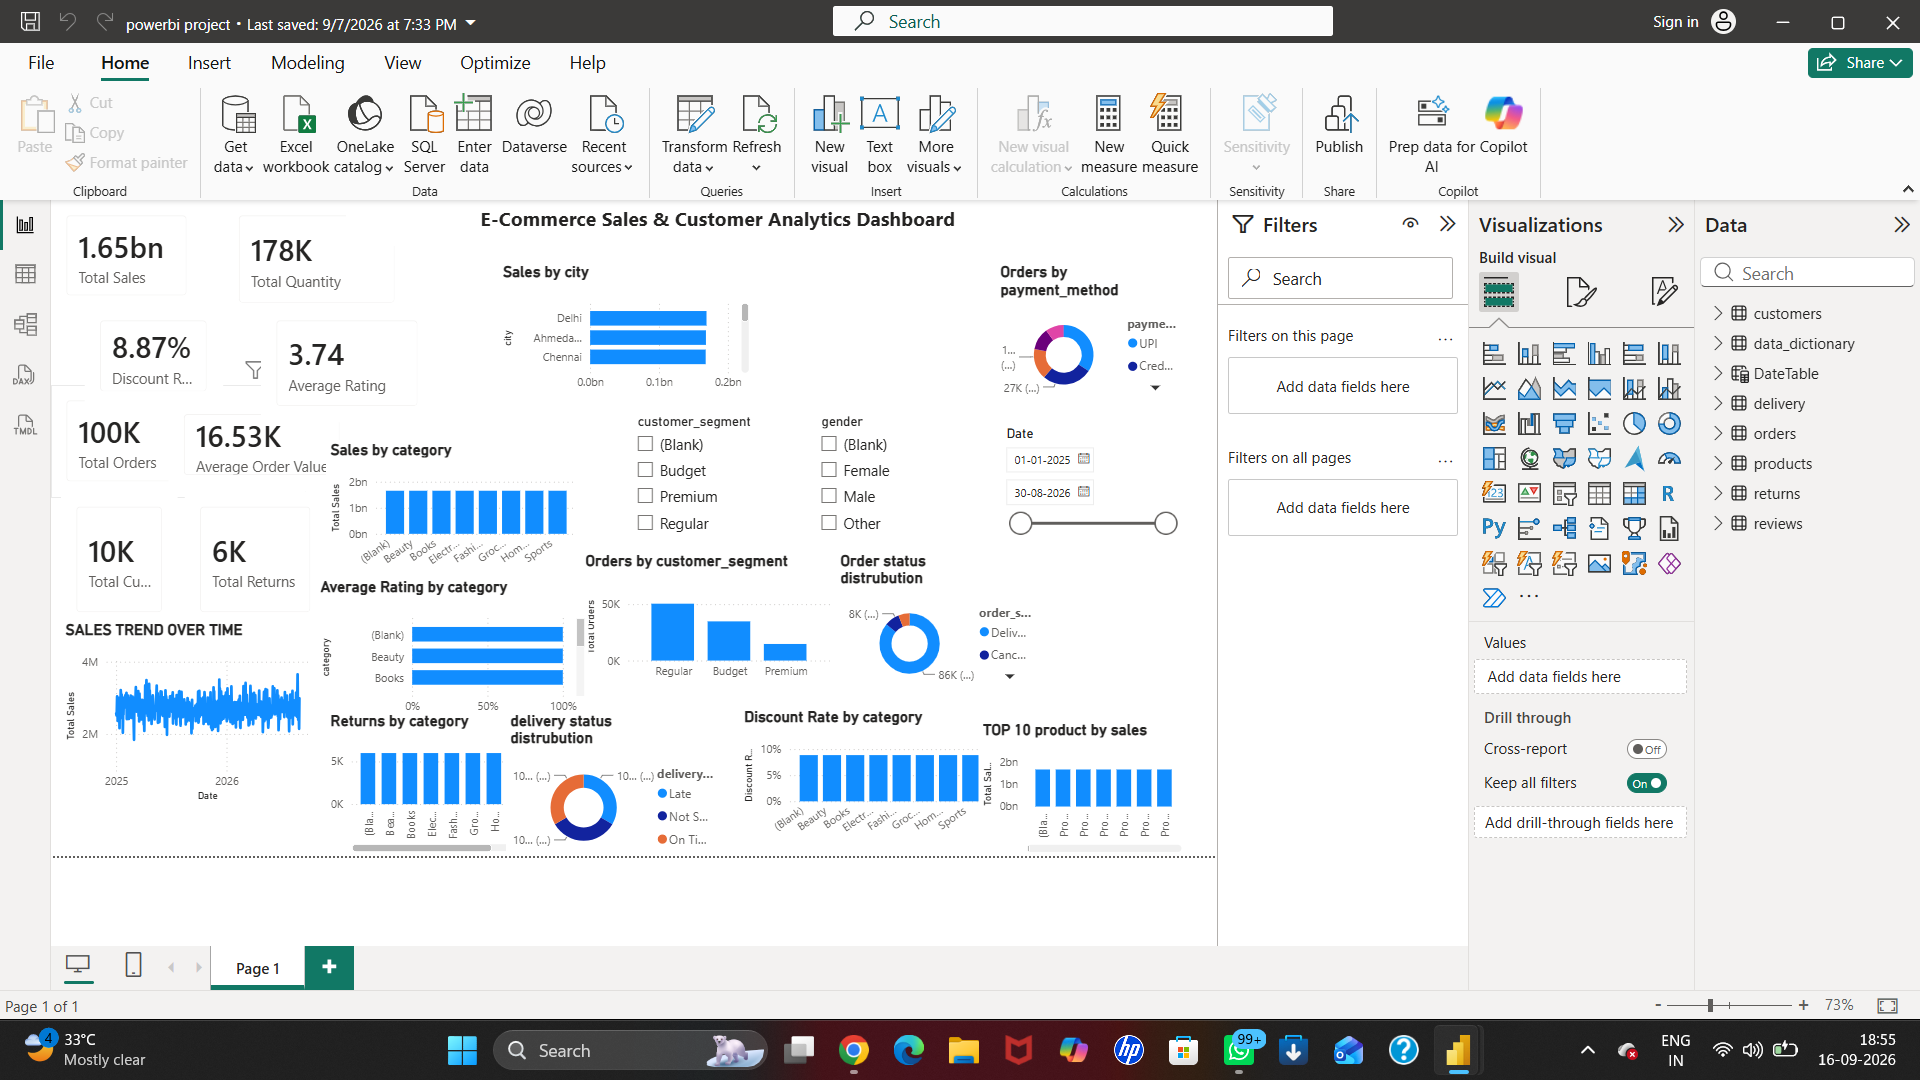

Layout of this report page (visuals, bound fields, positions):
{"tool":"powerbi","page":{"name":"Page 1","canvas":[1280,720],"ordinal":0},"visuals":[{"type":"cardVisual","fields":{"Data":["DateTable.Total Sales"]},"box":[0,0,166.3,122.3],"z":0},{"type":"cardVisual","fields":{"Data":["DateTable.Total Orders"]},"box":[0,203,279.9,123.5],"z":1000},{"type":"cardVisual","fields":{"Data":["DateTable.Total Customers"]},"box":[11,319.2,128.4,150.4],"z":2000},{"type":"cardVisual","fields":{"Data":["DateTable.Total Quantity"]},"box":[189.4,0,205.4,130.8],"z":3000},{"type":"cardVisual","fields":{"Data":["DateTable.Average Order Value"]},"box":[128.4,217.7,205.4,101.5],"z":4000},{"type":"cardVisual","fields":{"Data":["DateTable.Total Returns"]},"box":[146.7,319.2,155.3,150.4],"z":5000},{"type":"cardVisual","fields":{"Data":["DateTable.Average Rating"]},"box":[230.5,115.3,189.4,129],"z":6000},{"type":"cardVisual","fields":{"Data":["DateTable.Discount Rate"]},"box":[37,115.3,151.6,112.5],"z":7000},{"type":"lineChart","title":"SALES TREND OVER TIME","fields":{"Y":["DateTable.Total Sales"],"Category":["DateTable.Date"]},"box":[11,461,279.9,204.5],"z":8000},{"type":"clusteredColumnChart","title":"Sales by category","fields":{"Category":["products.category"],"Y":["DateTable.Total Sales"]},"box":[302,264.1,280,150],"z":9000},{"type":"clusteredBarChart","title":" Sales by city","fields":{"Y":["DateTable.Total Sales"],"Category":["customers.city"]},"box":[491.3,68.6,280,150],"z":10000},{"type":"clusteredColumnChart","title":" Orders by customer_segment","fields":{"Category":["customers.customer_segment"],"Y":["DateTable.Total Orders"]},"box":[582.1,385.2,280,150],"z":11000},{"type":"hundredPercentStackedBarChart","fields":{"Y":["DateTable.Average Rating"],"Category":["products.category"]},"box":[291,414.5,299.1,159.2],"z":12000},{"type":"clusteredColumnChart","title":"Returns by category","fields":{"Category":["products.category"],"Y":["DateTable.Total Returns"]},"box":[302,561.3,209.1,159],"z":13000},{"type":"donutChart","title":" delivery status distrubution","fields":{"Category":["delivery.delivery_status"],"Y":["DateTable.Total Orders"]},"box":[500.1,561.3,240.9,159],"z":14000},{"type":"clusteredColumnChart","fields":{"Category":["products.category"],"Y":["DateTable.Discount Rate"]},"box":[755.7,557.6,280,150],"z":15000},{"type":"slicer","fields":{"Values":["customers.customer_segment"]},"box":[631.2,229.2,280,150],"z":16000},{"type":"slicer","fields":{"Values":["DateTable.Date"]},"box":[1036,242.9,209,150],"z":17000},{"type":"textbox","box":[832.7,708,203,12.2],"z":18000},{"type":"textbox","box":[1052,5,228,150],"z":19000},{"type":"textbox","box":[323.8,0,816.5,50.8],"z":20000},{"type":"slicer","fields":{"Values":["customers.gender"]},"box":[832.9,229.2,157.7,150.4],"z":21000},{"type":"clusteredColumnChart","title":"TOP 10 product by sales","fields":{"Category":["products.product_name"],"Y":["DateTable.Total Sales"]},"box":[1018.2,570.8,228,150],"z":22000},{"type":"donutChart","title":"Order status distrubution","fields":{"Category":["orders.order_status"],"Y":["DateTable.Total Orders"]},"box":[861.8,385.6,228,150],"z":23000},{"type":"donutChart","title":" Orders by payment_method","fields":{"Category":["orders.payment_method"],"Y":["DateTable.Total Orders"]},"box":[1037.4,68.6,209,150],"z":24000}]}

Visuals, with their boxes on the page's 1280x720 design canvas (x1, y1, x2, y2). These are canvas units, not pixel positions in the 1920x1080 screenshot, which may show the page scaled, cropped or inside an application window:
cardVisual - DateTable.Total Sales: {"x1": 0, "y1": 0, "x2": 166, "y2": 122}
cardVisual - DateTable.Total Orders: {"x1": 0, "y1": 203, "x2": 280, "y2": 326}
cardVisual - DateTable.Total Customers: {"x1": 11, "y1": 319, "x2": 139, "y2": 470}
cardVisual - DateTable.Total Quantity: {"x1": 189, "y1": 0, "x2": 395, "y2": 131}
cardVisual - DateTable.Average Order Value: {"x1": 128, "y1": 218, "x2": 334, "y2": 319}
cardVisual - DateTable.Total Returns: {"x1": 147, "y1": 319, "x2": 302, "y2": 470}
cardVisual - DateTable.Average Rating: {"x1": 230, "y1": 115, "x2": 420, "y2": 244}
cardVisual - DateTable.Discount Rate: {"x1": 37, "y1": 115, "x2": 189, "y2": 228}
"SALES TREND OVER TIME" lineChart: {"x1": 11, "y1": 461, "x2": 291, "y2": 666}
"Sales by category" clusteredColumnChart: {"x1": 302, "y1": 264, "x2": 582, "y2": 414}
" Sales by city" clusteredBarChart: {"x1": 491, "y1": 69, "x2": 771, "y2": 219}
" Orders by customer_segment" clusteredColumnChart: {"x1": 582, "y1": 385, "x2": 862, "y2": 535}
hundredPercentStackedBarChart - DateTable.Average Rating x products.category: {"x1": 291, "y1": 414, "x2": 590, "y2": 574}
"Returns by category" clusteredColumnChart: {"x1": 302, "y1": 561, "x2": 511, "y2": 720}
" delivery status distrubution" donutChart: {"x1": 500, "y1": 561, "x2": 741, "y2": 720}
clusteredColumnChart - products.category x DateTable.Discount Rate: {"x1": 756, "y1": 558, "x2": 1036, "y2": 708}
slicer - customers.customer_segment: {"x1": 631, "y1": 229, "x2": 911, "y2": 379}
slicer - DateTable.Date: {"x1": 1036, "y1": 243, "x2": 1245, "y2": 393}
textbox: {"x1": 833, "y1": 708, "x2": 1036, "y2": 720}
textbox: {"x1": 1052, "y1": 5, "x2": 1280, "y2": 155}
textbox: {"x1": 324, "y1": 0, "x2": 1140, "y2": 51}
slicer - customers.gender: {"x1": 833, "y1": 229, "x2": 991, "y2": 380}
"TOP 10 product by sales" clusteredColumnChart: {"x1": 1018, "y1": 571, "x2": 1246, "y2": 721}
"Order status distrubution" donutChart: {"x1": 862, "y1": 386, "x2": 1090, "y2": 536}
" Orders by payment_method" donutChart: {"x1": 1037, "y1": 69, "x2": 1246, "y2": 219}
